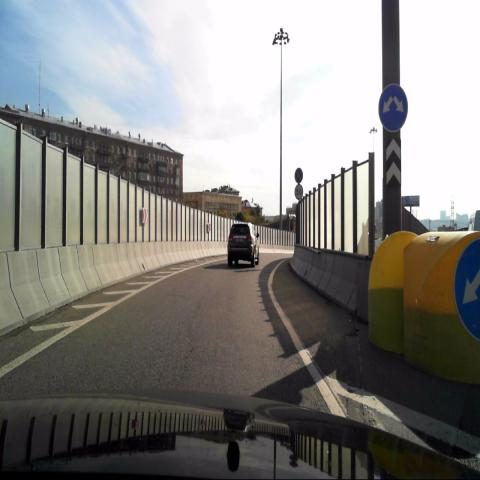3_24: (294, 183, 304, 200)
3_27: (294, 166, 303, 184)
4_2_3: (378, 84, 409, 134)
